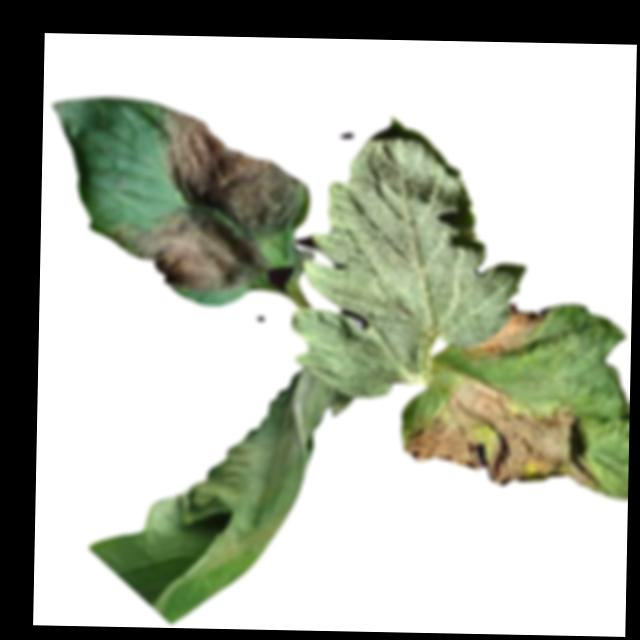Late_blight: (87, 366, 336, 627), (107, 99, 303, 293), (401, 373, 606, 488), (465, 304, 547, 356)
